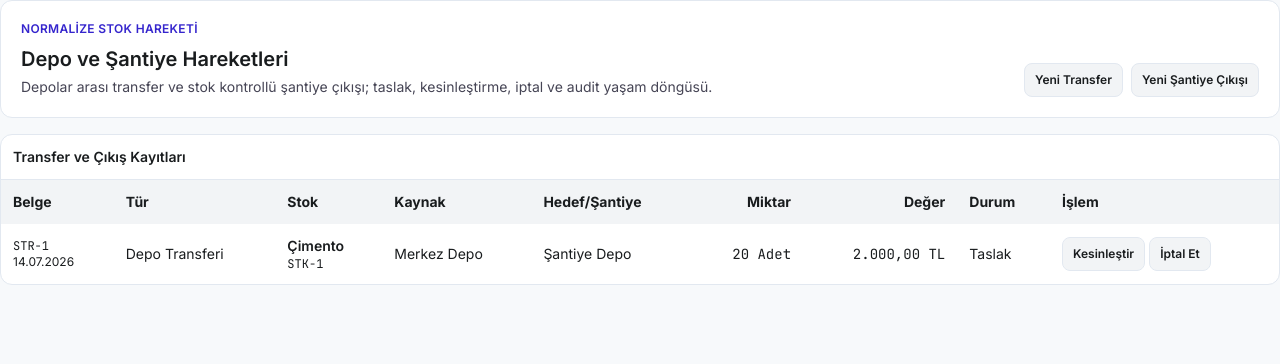
Test: StockMovementSurface › posts a draft movement into warehouse balances
The image size is (1280, 364).
Click the button with aria-label "Kesinleştir STR-1".
click(1104, 254)  # box [1062, 237, 1145, 271]
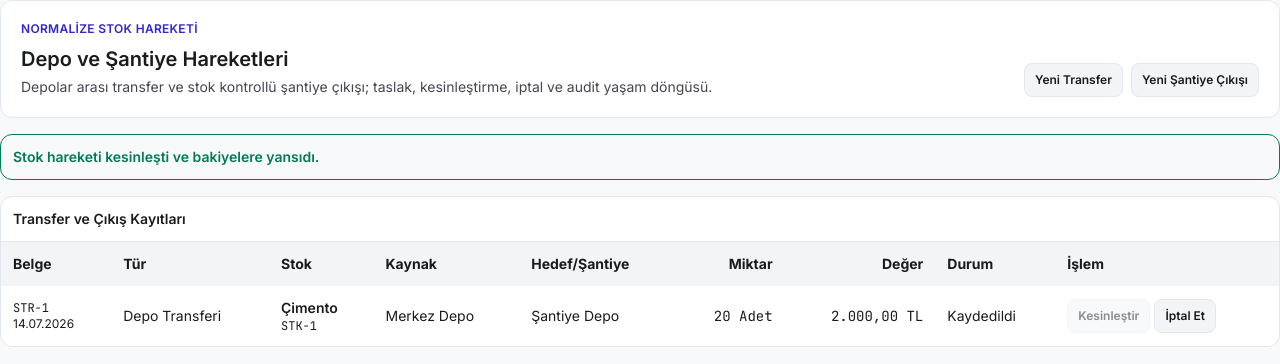
Check: the text "Stok hareketi kesinleşti ve bakiyelere yansıdı." is shown, box [0, 134, 1279, 180]
